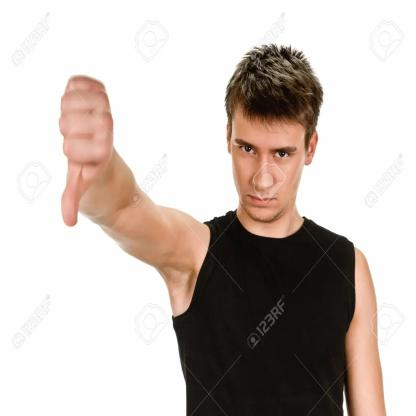Thumbs-Down: (44, 66, 127, 244)
